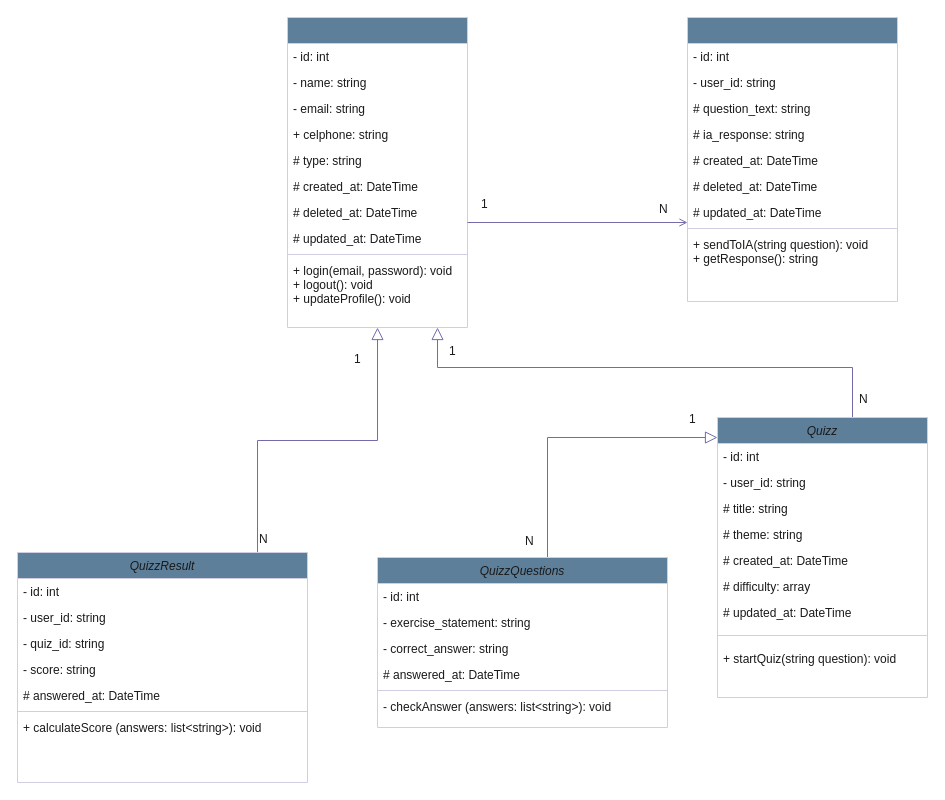
Some shapes in this 945 by 800 pixel diagram are drawn without their labels. Each missing label, with the box of its shape:
IAQuestion: (686, 16, 898, 302)
User: (286, 16, 468, 328)
